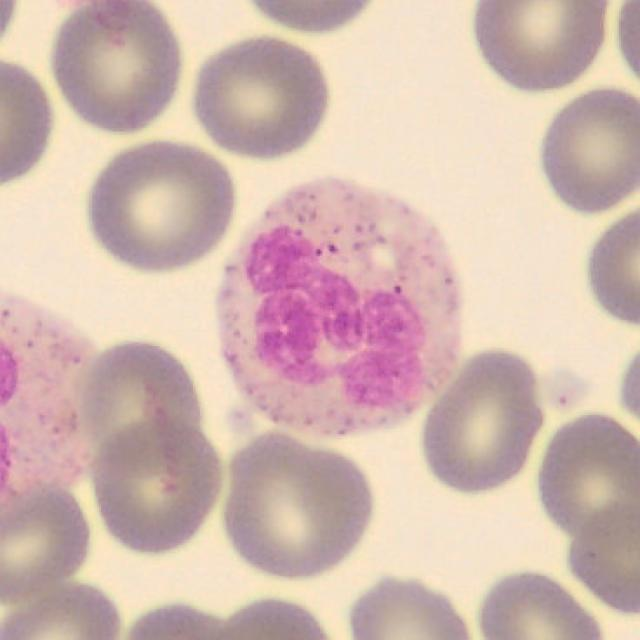Neutrofilo segmentado: (216, 176, 464, 439)
